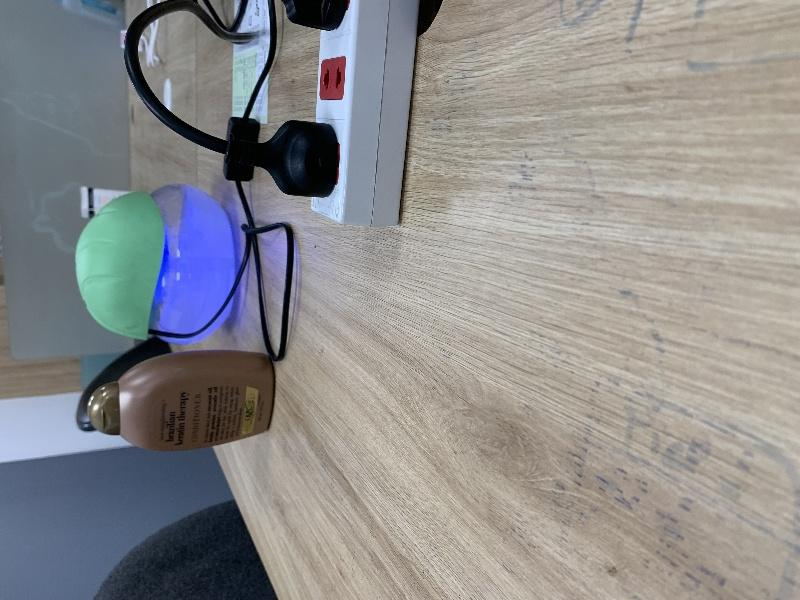BrazilianKerationTherapy_Conditioner: (87, 350, 275, 451)
